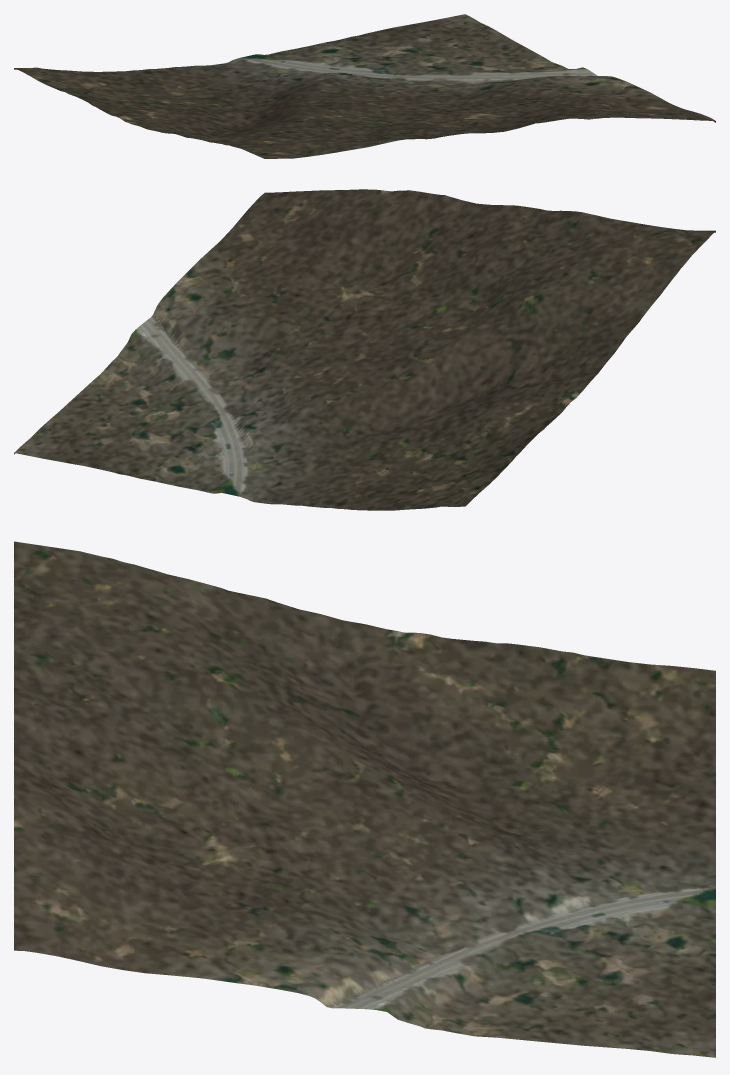
3 views of the same model, one above another, from view 1: azimuth 30°, elevation 25°; view 2: azimuth 150°, elevation 25°; view 3: azimuth 270°, elevation 25° (orthographic). The views are drawn at different scales.
Bounding box in the file's own units: 250 × 79.73 × 241.
1 material, 1 textured.
